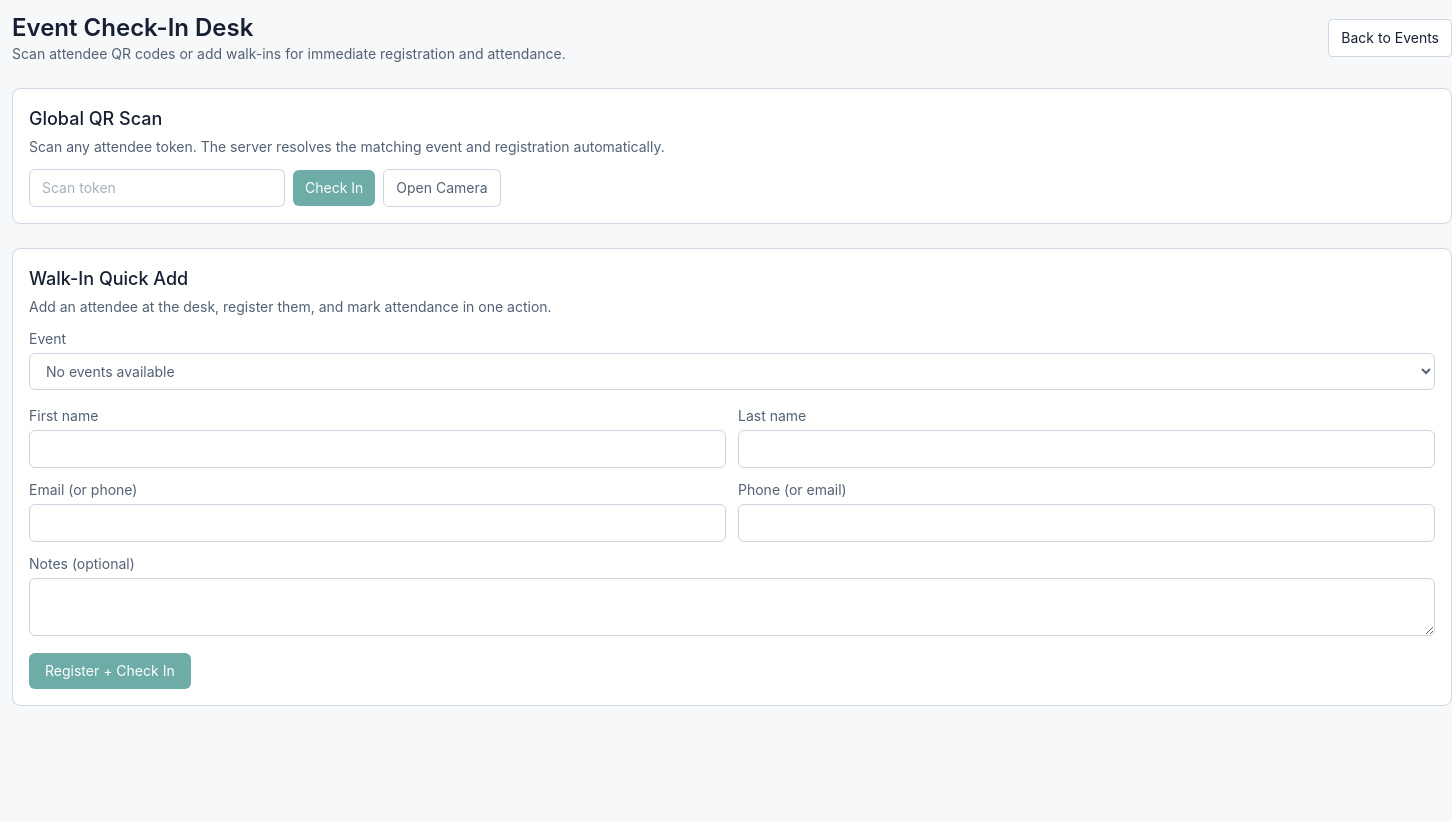
EventCheckInDeskPage › submits global scan token
expect the heading "Walk-In Quick Add" is shown: met, box x1=29 y1=268 x2=188 y2=289
In the field with placeholder "Scan token": [157, 188] box x1=29 y1=169 x2=285 y2=207, type "token-123"
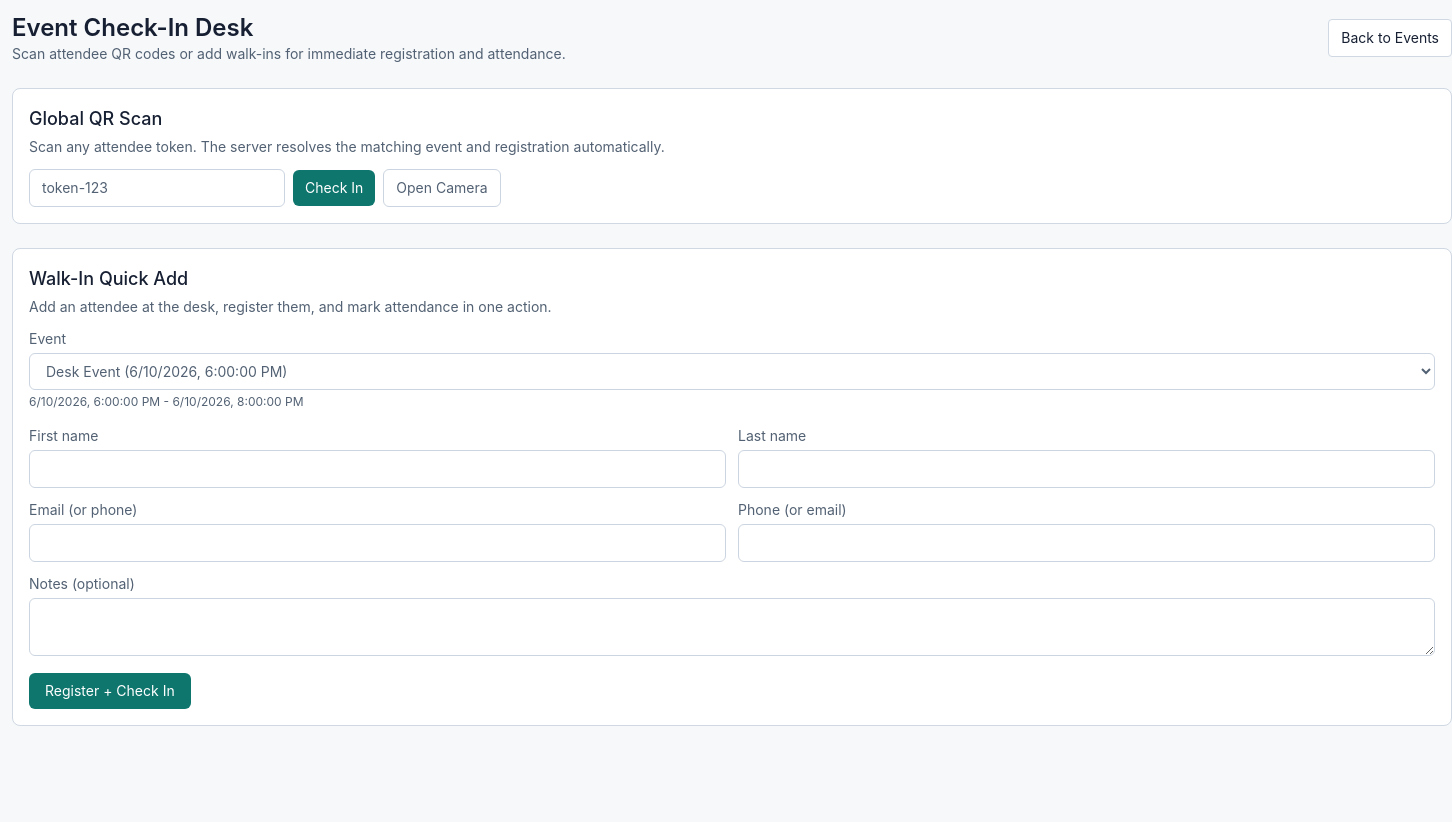
Click the button "Check In": [334, 188] box x1=293 y1=170 x2=375 y2=206
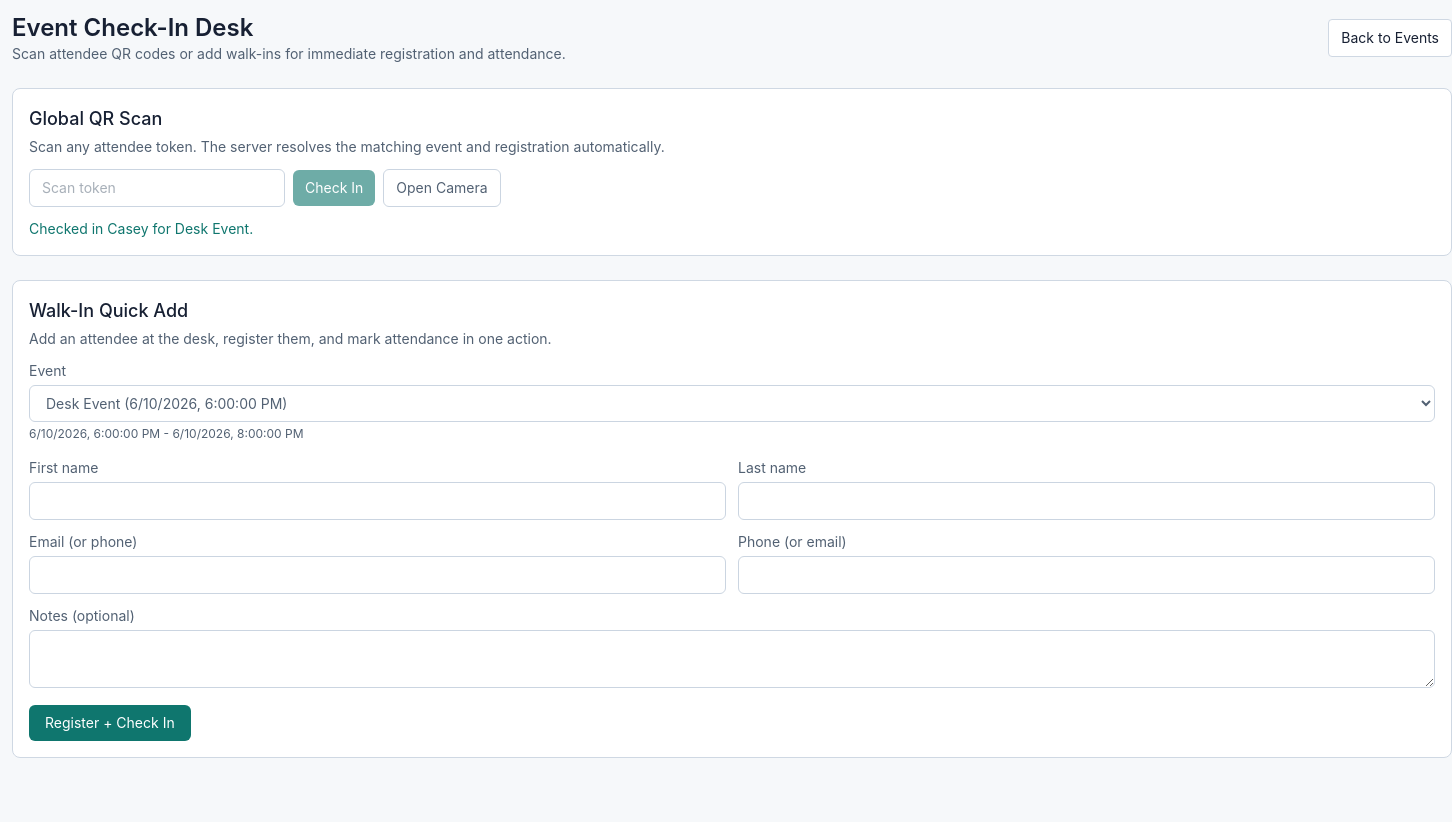
expect the text "Checked in Casey for Desk Event." is shown: met, box x1=29 y1=220 x2=253 y2=237
